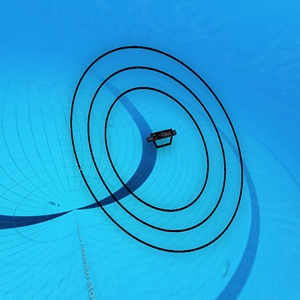circle: (69, 45, 245, 251)
submarine: (147, 127, 174, 147)
